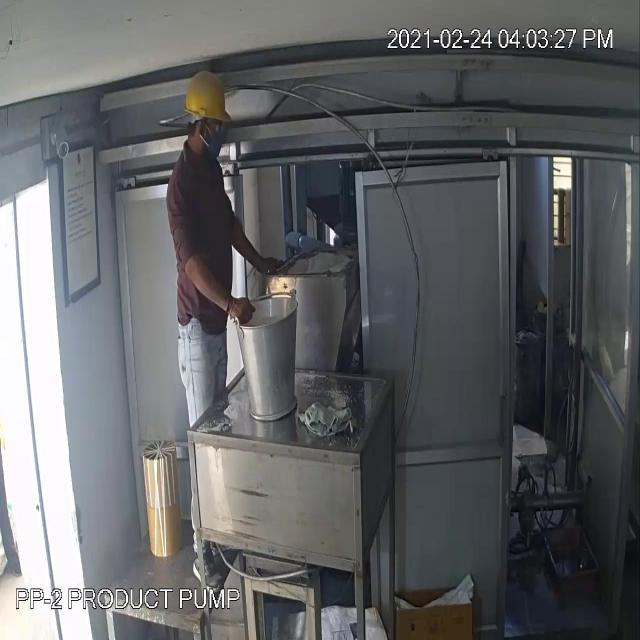helmet: (181, 64, 231, 116)
